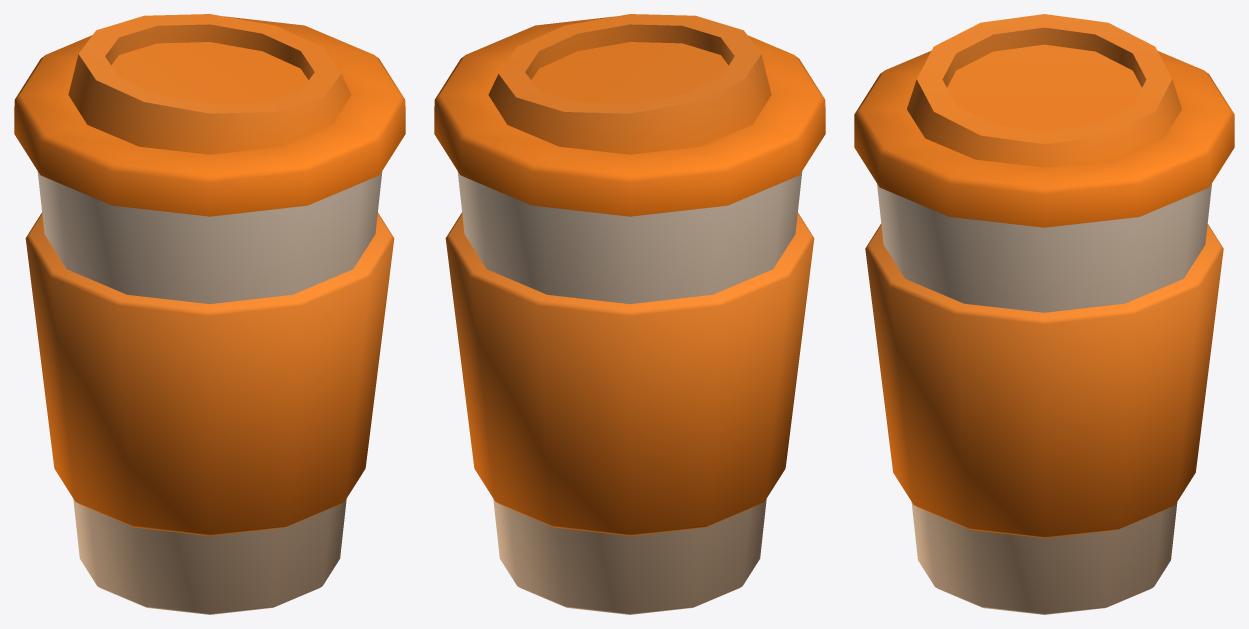
File: Collectable_Paper_Coffee_Cup_01.fbx
The picture shows the model from 3 angles, left to right: view 1: azimuth 30°, elevation 25°; view 2: azimuth 150°, elevation 25°; view 3: azimuth 270°, elevation 25°; orthographic projection. The views are drawn at different scales.
Parts seen in each view (by area): view 1: Collectable_Paper_Coffee_Cup_01; view 2: Collectable_Paper_Coffee_Cup_01; view 3: Collectable_Paper_Coffee_Cup_01.
Part boxes in pixels (x1,y1,x2,y2): Collectable_Paper_Coffee_Cup_01: [14, 14, 405, 614]; Collectable_Paper_Coffee_Cup_01: [434, 14, 825, 614]; Collectable_Paper_Coffee_Cup_01: [854, 14, 1234, 614].
Bounding box in the file's own units: 48.17 × 69.13 × 48.17.
1 material, 1 textured.
